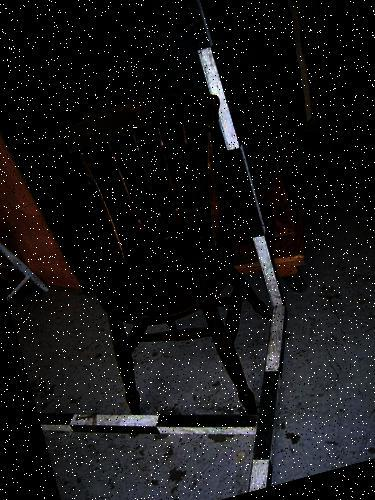Silla: (47, 75, 297, 451)
